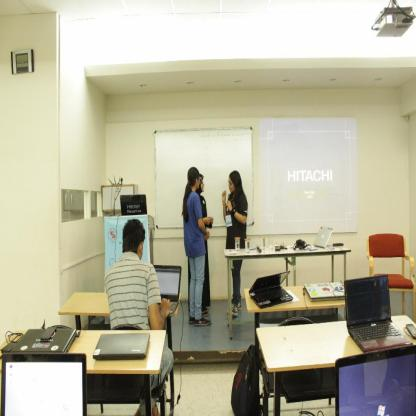board: (345, 273, 414, 356), (0, 352, 86, 415), (10, 329, 76, 353), (249, 272, 293, 308), (92, 334, 150, 360), (153, 266, 181, 317), (303, 281, 345, 302), (119, 194, 148, 216), (313, 228, 333, 249)
